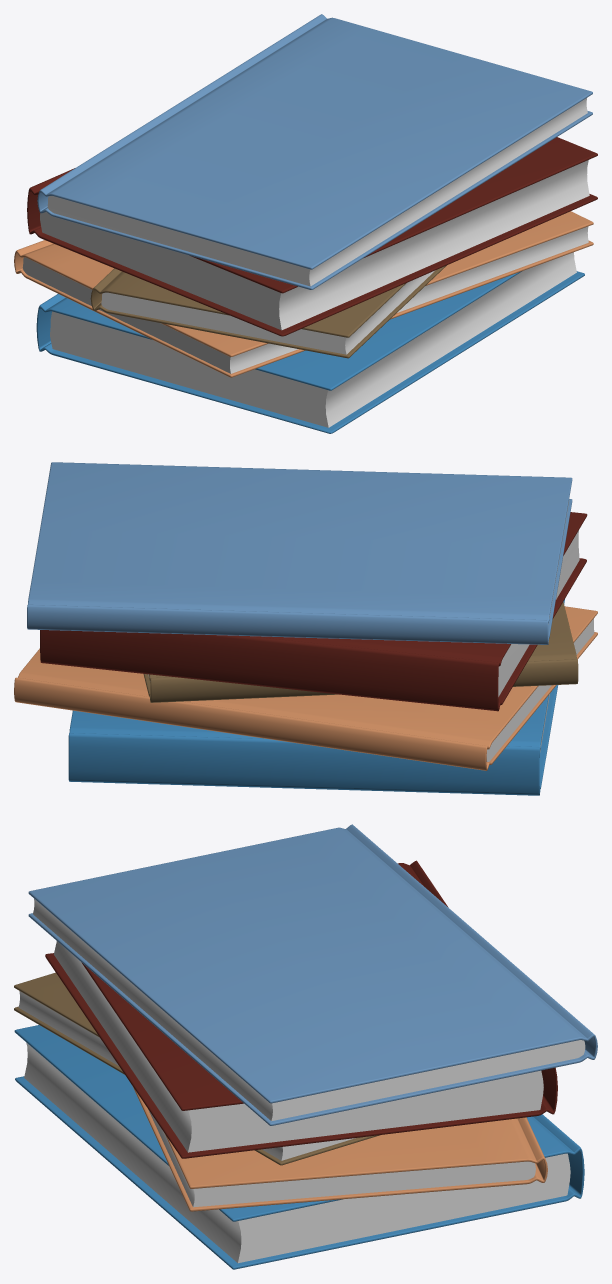
Rendered from Libri.fbx.
The picture shows the model from 3 angles, top to bottom: view 1: azimuth 30°, elevation 25°; view 2: azimuth 150°, elevation 25°; view 3: azimuth 270°, elevation 25°; orthographic projection. The views are drawn at different scales.
Visible parts, largest first — view 1: Libri; view 2: Libri; view 3: Libri.
Boxes of the visible parts, x1=… form: Libri: x1=14, y1=14, x2=597, y2=433; Libri: x1=14, y1=462, x2=597, y2=795; Libri: x1=14, y1=824, x2=597, y2=1269.
Bounding box in the file's own units: 44.54 × 13.69 × 39.62.
